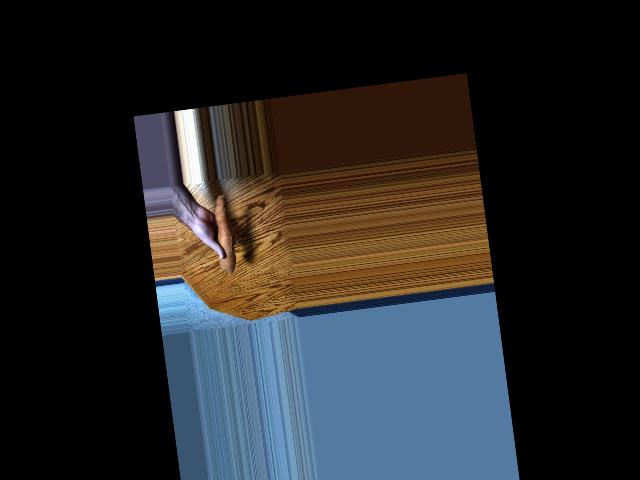sweet_potato: (207, 193, 239, 271)
